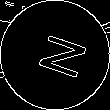N_W: (25, 28, 85, 82)
